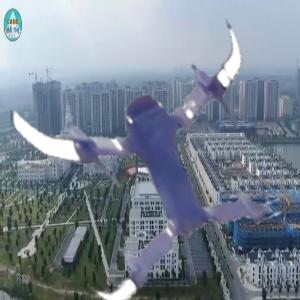drone: (16, 7, 292, 283)
